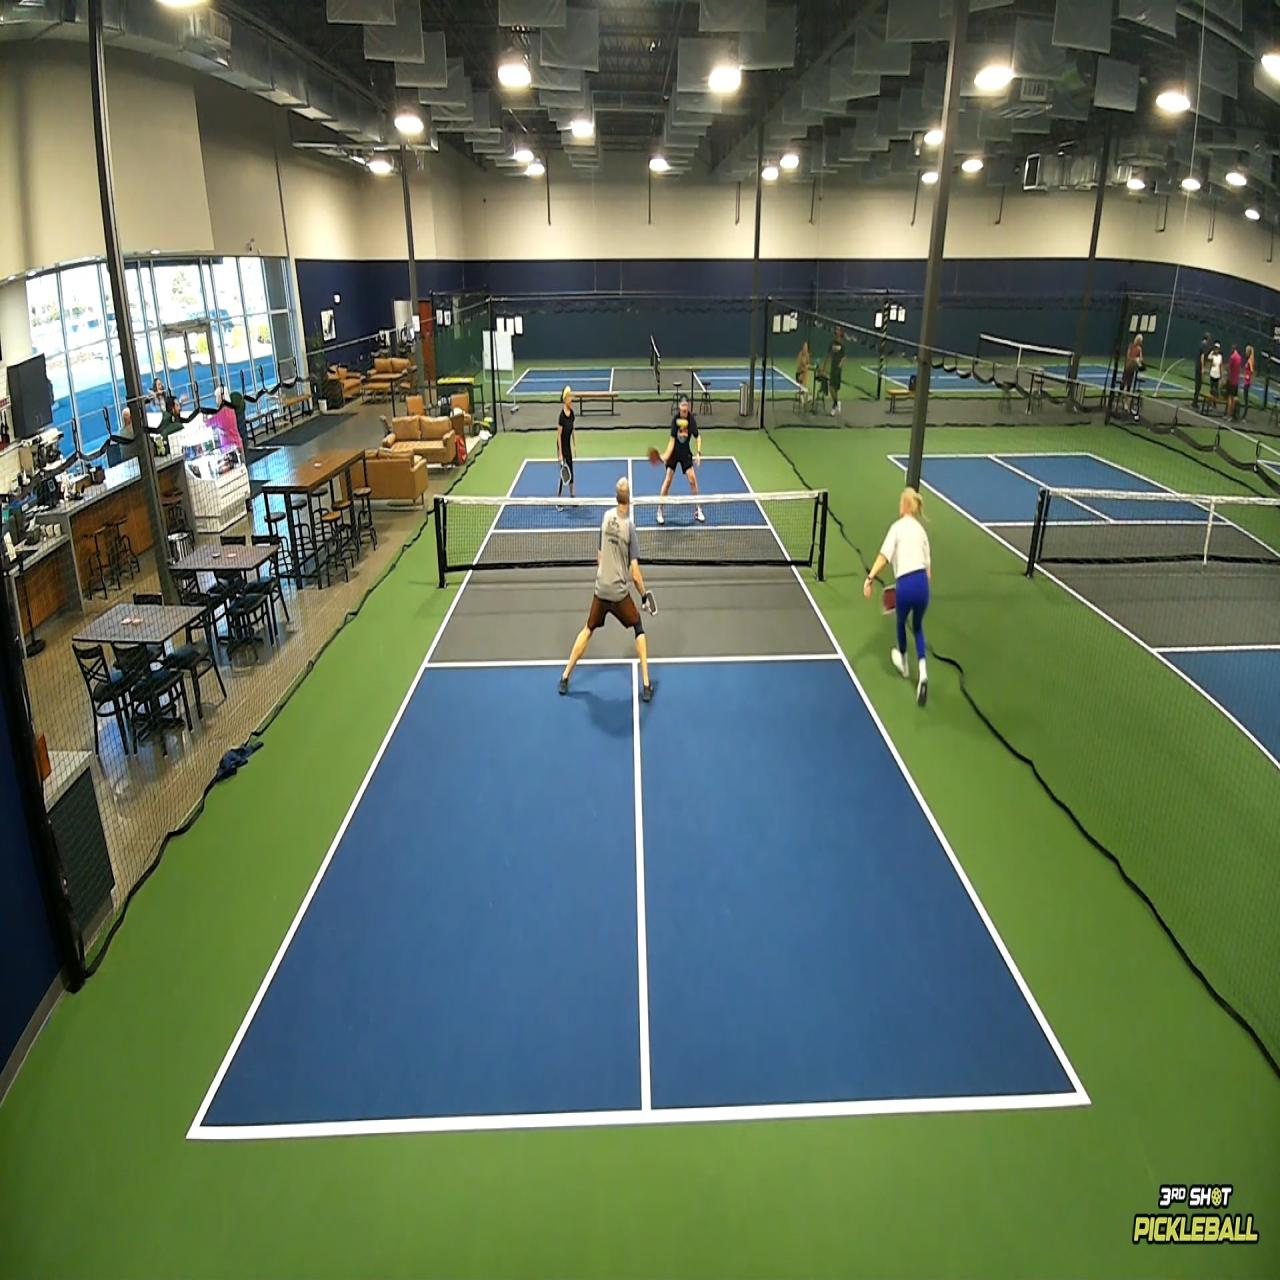Pickleball: (674, 418, 690, 429)
